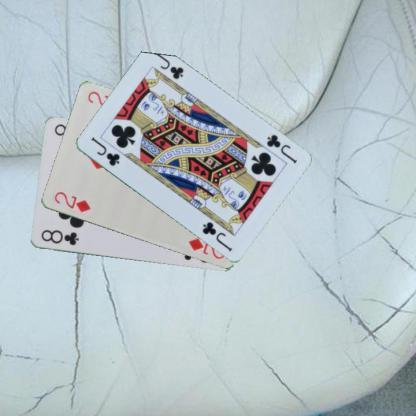2d: (51, 188, 92, 214)
8c: (38, 227, 80, 247)
Jc: (264, 132, 298, 166), (88, 134, 121, 167)
